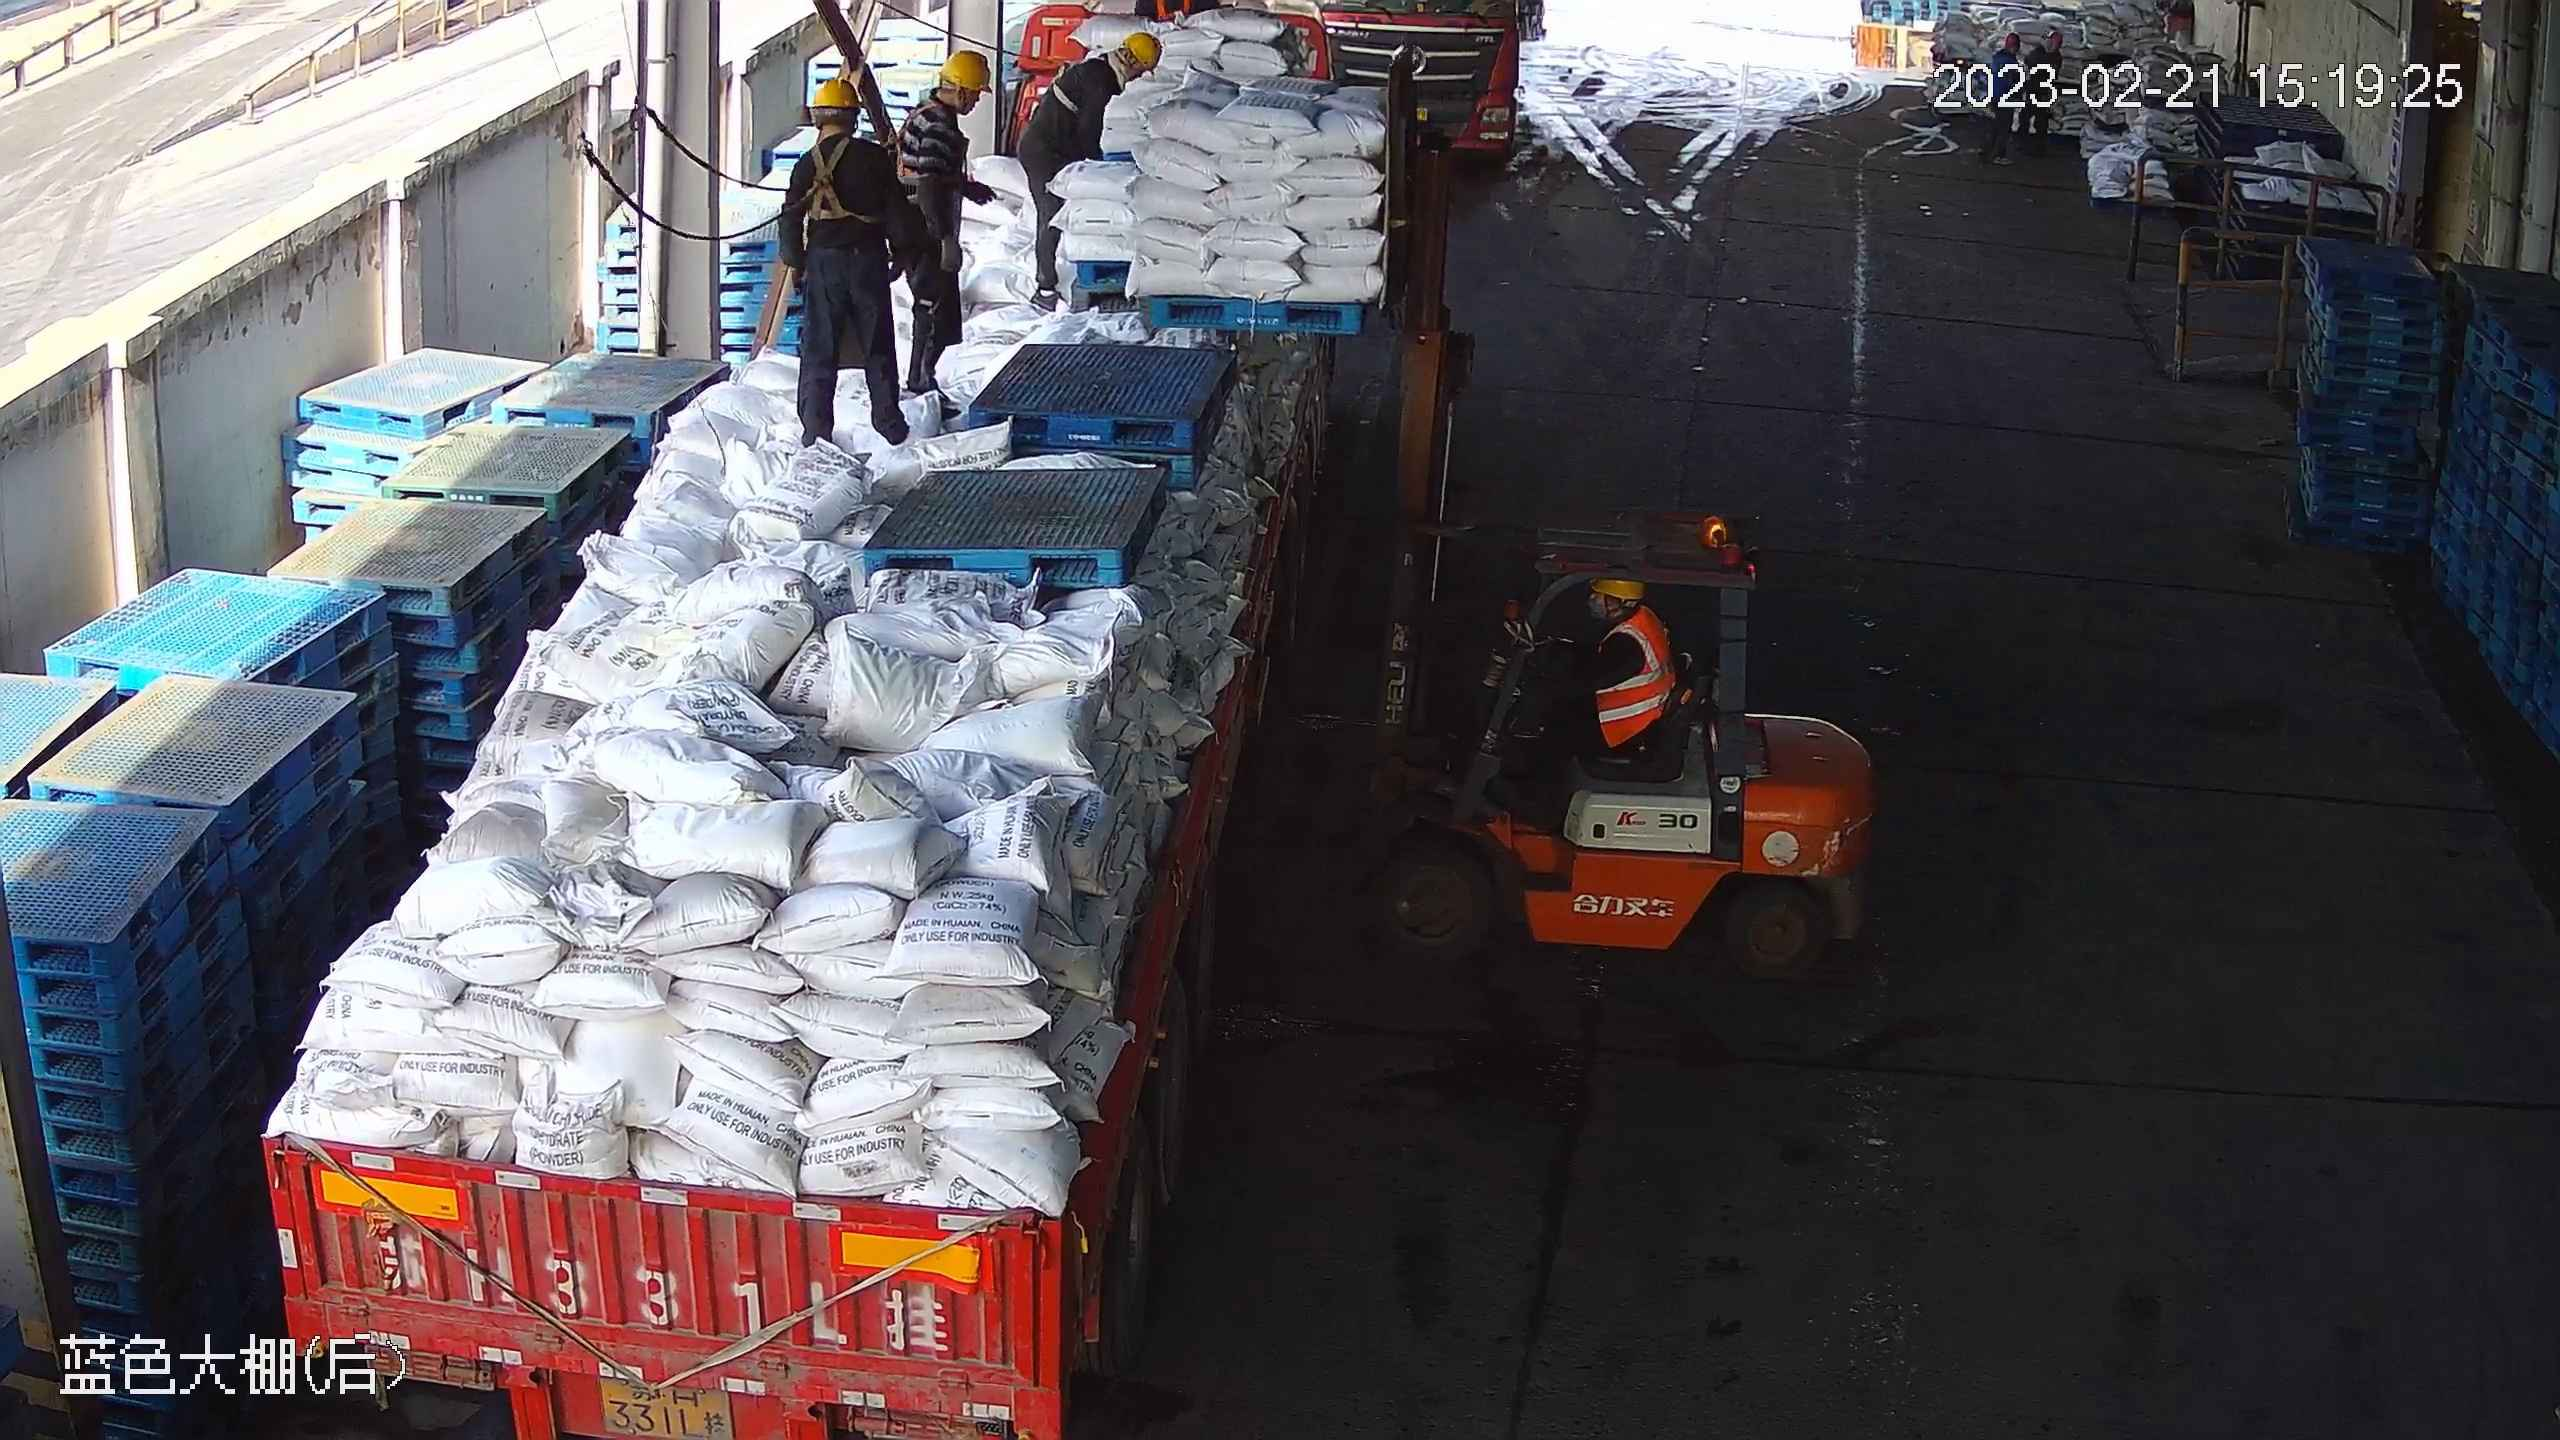belt: (798, 140, 864, 232), (1053, 54, 1094, 123)
head: (790, 66, 894, 204), (1025, 23, 1157, 129), (1570, 573, 1670, 682), (896, 47, 994, 149)
helmet: (933, 43, 999, 104), (805, 71, 859, 119), (1122, 19, 1162, 66)
people: (786, 80, 933, 445), (1020, 27, 1159, 306), (1529, 566, 1670, 825)
truck: (238, 14, 1398, 1434)
